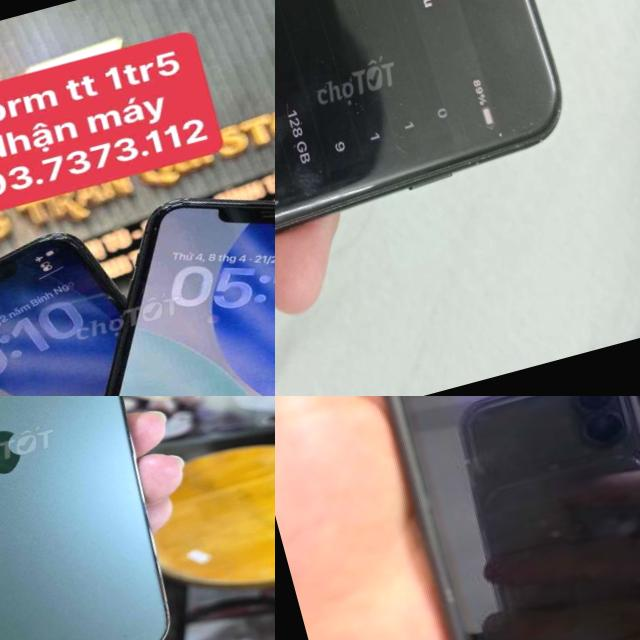gen_11: (0, 145, 275, 396)
gen_12_13: (297, 396, 640, 640), (0, 396, 202, 640)
gen_7_8: (275, 0, 583, 296)
scratch: (275, 184, 384, 268), (491, 112, 554, 148)
